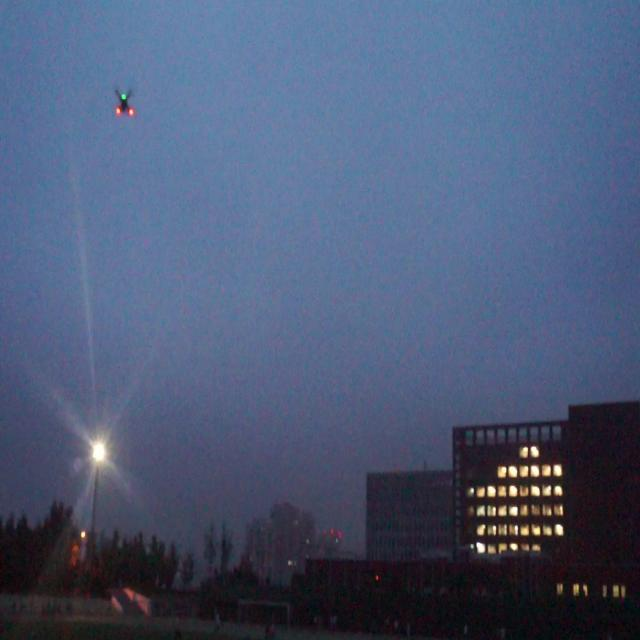UAV: (114, 89, 135, 117)
